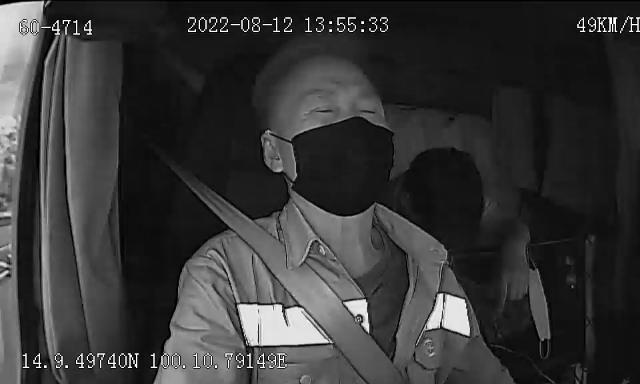Seatbelt: (172, 162, 406, 384)
